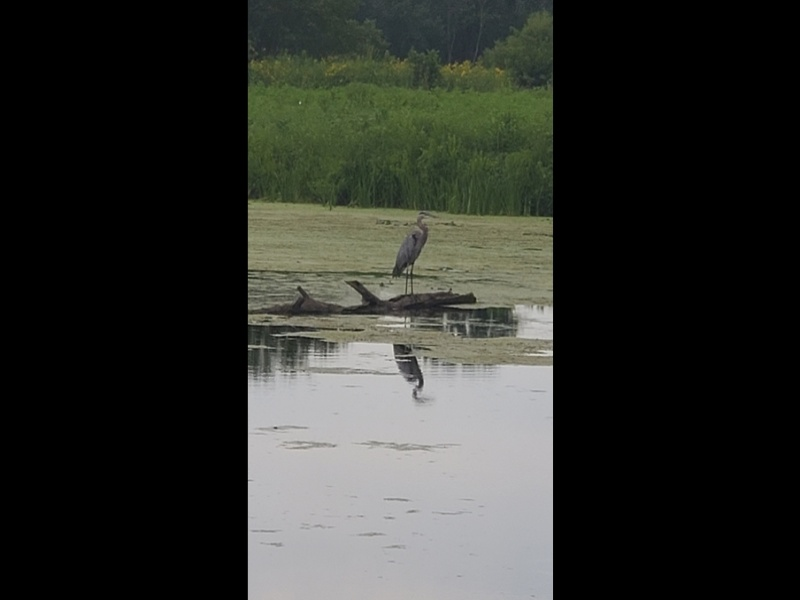heron: (391, 206, 439, 299)
